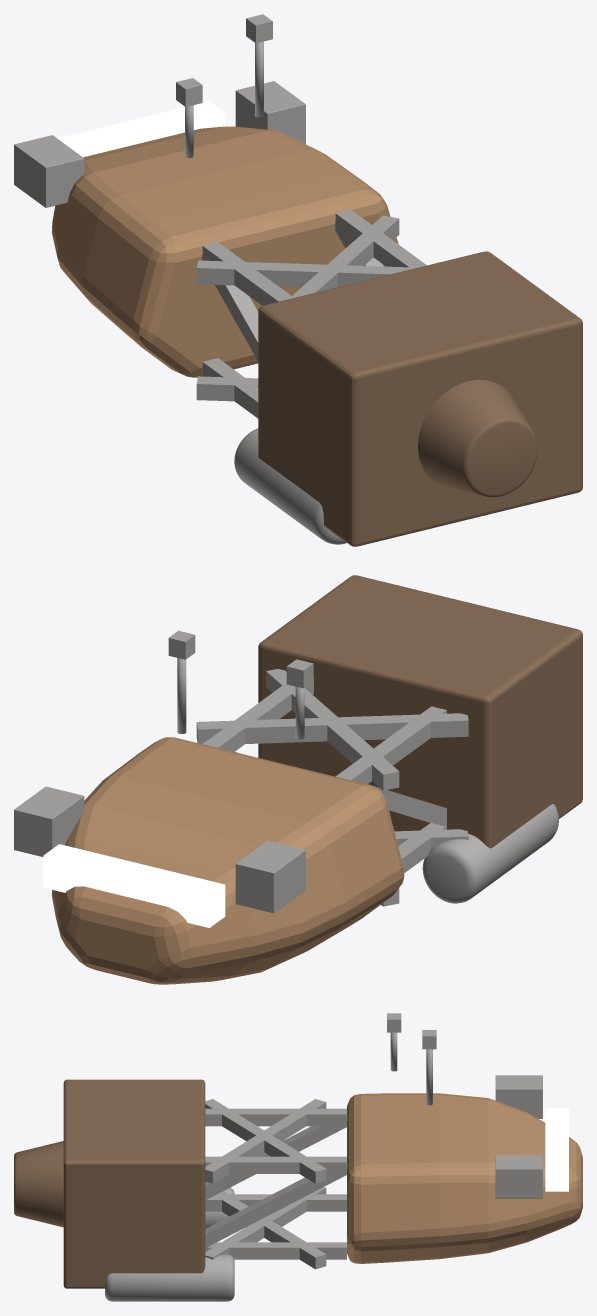
The model's file is terra-nexum-scout.glb.
The picture shows the model from 3 angles, top to bottom: view 1: azimuth 30°, elevation 25°; view 2: azimuth 150°, elevation 25°; view 3: azimuth 270°, elevation 25°; orthographic projection. The views are drawn at different scales.
Parts seen in each view (by area): view 1: Cube.015, hull, Cone, Cube.003, Cube, Cylinder.004, Cube.011, Cube.004, Cube.009, Cube.005, Cube.007, Cube.013 (+3 smaller); view 2: hull, Cube.015, Cube, Cylinder.004, Cube.009, Cube.003, Cube.004, Cube.011, Cube.007, Cube.005, Cube.013, Cube.008 (+4 smaller); view 3: hull, Cube.015, Cylinder.005, Cone, Cube.014, Cube.004, Cube.007, Cube, Cube.005, Cube.006, Cube.011, Cube.009 (+6 smaller).
Boxes of the visible parts, x1,y1,x2,y2 form: Cube.015: (258, 251, 582, 546); hull: (51, 126, 398, 377); Cone: (418, 379, 537, 497); Cube.003: (14, 135, 84, 207); Cube: (57, 101, 225, 157); Cylinder.004: (234, 428, 346, 544); Cube.011: (196, 260, 417, 287); Cube.004: (235, 81, 305, 144); Cube.009: (288, 215, 399, 299); Cube.005: (335, 209, 426, 267); Cube.007: (202, 242, 293, 305); Cube.013: (202, 254, 258, 361); hull: (51, 737, 404, 984); Cube.015: (258, 575, 582, 848); Cube: (43, 844, 225, 927); Cylinder.004: (422, 804, 558, 903); Cube.009: (196, 713, 468, 744); Cube.003: (235, 840, 305, 913); Cube.004: (14, 786, 84, 856); Cube.011: (266, 669, 399, 790); Cube.007: (336, 706, 446, 783); Cube.005: (203, 678, 313, 751); Cube.013: (353, 780, 446, 826); Cube.008: (398, 823, 446, 873); hull: (347, 1093, 582, 1263); Cube.015: (63, 1079, 205, 1288); Cylinder.005: (105, 1254, 234, 1301); Cone: (14, 1141, 63, 1227); Cube.014: (205, 1163, 347, 1247); Cube.004: (495, 1155, 542, 1198); Cube.007: (205, 1108, 346, 1126); Cube: (545, 1108, 568, 1191); Cube.005: (205, 1156, 346, 1173); Cube.006: (205, 1242, 346, 1259); Cube.011: (205, 1099, 326, 1183); Cube.009: (205, 1099, 326, 1183).
Size of the model in its own units: 0.9677 by 1.15 by 2.41.
